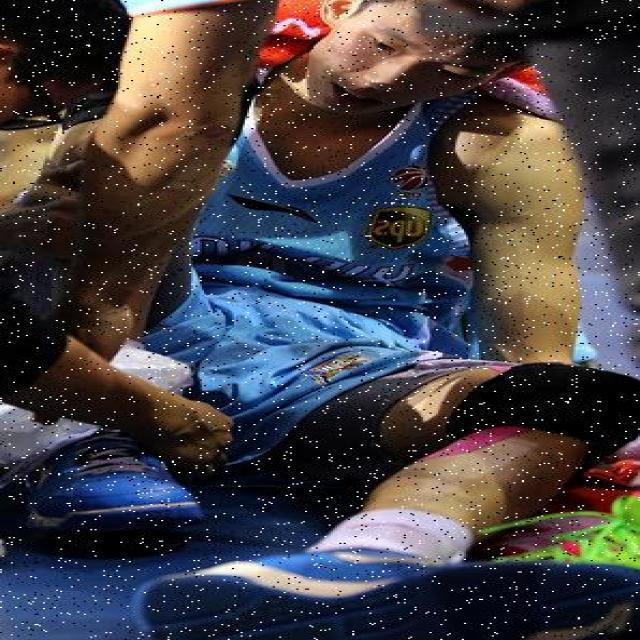fall: (142, 4, 586, 615)
